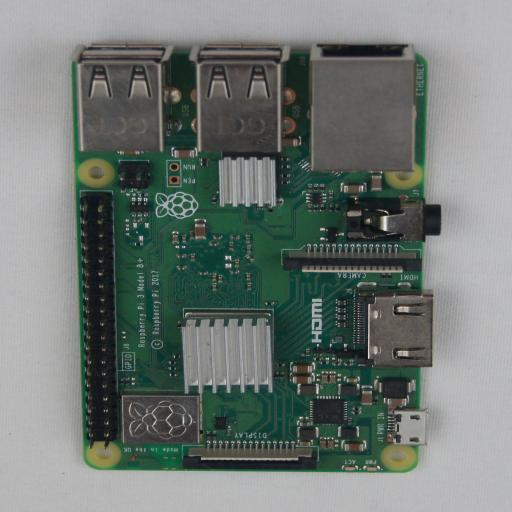Raspberry Pi 3 B-: (72, 41, 441, 472)
